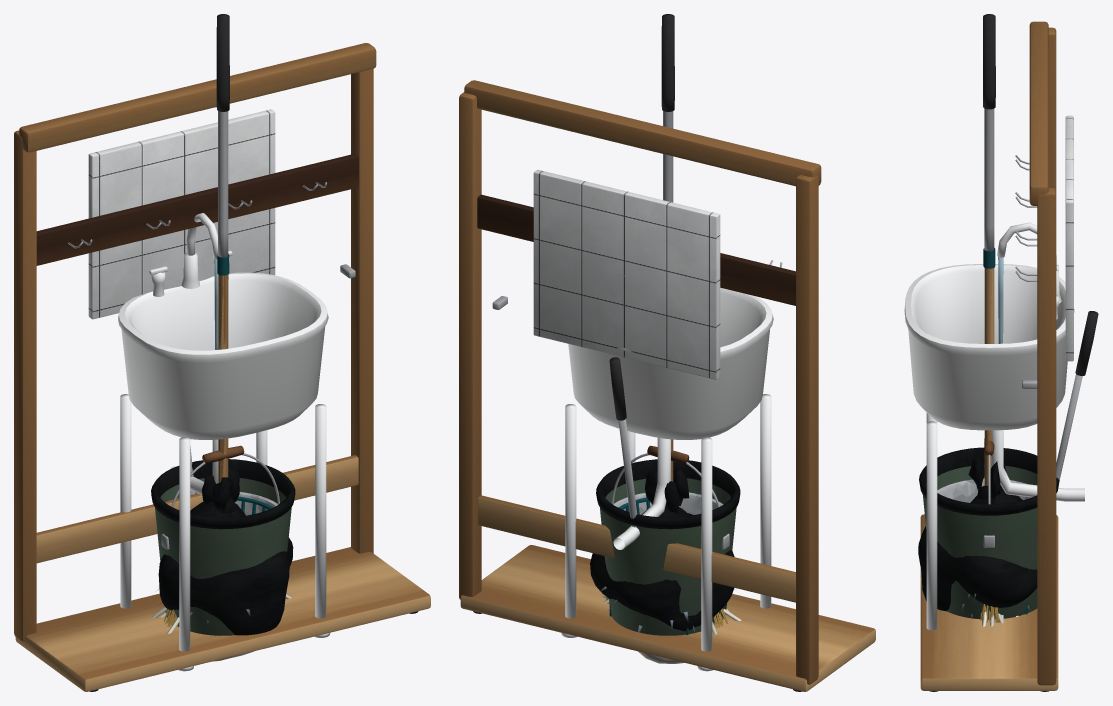
File: study-care-89fcd69a17ce.glb
3 renders of one model, left to right at view 1: azimuth 30°, elevation 25°; view 2: azimuth 150°, elevation 25°; view 3: azimuth 270°, elevation 25°, orthographic. The views are drawn at different scales.
Visible parts, largest first — view 1: Frame, Basin, Back, Rail, Bag, Legs, Body.001, Liner, Faucet, Pole.001, Grip.001, Handle (+1 smaller); view 2: Frame, Back, Basin, Legs, Body.001, Bag, Rail, Liner, Grip.001, Pole, Grip, Body (+1 smaller); view 3: Frame, Basin, Body.001, Bag, Legs, Liner, Back, Pole.001, Grip.001, Handle, Pole, Body (+4 smaller).
Boxes of the visible parts, bbox=[...] form: Frame: bbox=[14, 43, 430, 691]; Basin: bbox=[118, 272, 328, 439]; Back: bbox=[88, 109, 275, 319]; Rail: bbox=[36, 153, 358, 265]; Bag: bbox=[158, 467, 293, 635]; Legs: bbox=[120, 394, 330, 671]; Body.001: bbox=[155, 478, 291, 635]; Liner: bbox=[151, 459, 295, 529]; Faucet: bbox=[149, 213, 232, 296]; Pole.001: bbox=[218, 111, 228, 257]; Grip.001: bbox=[216, 14, 229, 111]; Handle: bbox=[218, 275, 228, 482]; Frame: bbox=[459, 80, 875, 691]; Back: bbox=[533, 169, 720, 379]; Basin: bbox=[568, 287, 773, 439]; Legs: bbox=[561, 394, 771, 671]; Body.001: bbox=[600, 478, 736, 635]; Bag: bbox=[590, 468, 734, 631]; Rail: bbox=[477, 194, 795, 305]; Liner: bbox=[596, 459, 740, 529]; Grip.001: bbox=[661, 14, 674, 111]; Pole: bbox=[618, 419, 637, 527]; Grip: bbox=[609, 357, 626, 420]; Body: bbox=[613, 492, 723, 514]; Frame: bbox=[920, 21, 1058, 690]; Basin: bbox=[904, 264, 1074, 430]; Body.001: bbox=[923, 465, 1037, 619]; Bag: bbox=[918, 456, 1037, 611]; Legs: bbox=[926, 413, 1084, 630]; Liner: bbox=[919, 447, 1059, 515]; Back: bbox=[1065, 115, 1073, 361]; Pole.001: bbox=[984, 108, 994, 251]; Grip.001: bbox=[983, 14, 995, 109]; Handle: bbox=[984, 268, 994, 485]; Pole: bbox=[1056, 374, 1082, 479]; Body: bbox=[937, 478, 1031, 502].
Bounding box in the file's own units: 1.03 × 1.79 × 0.5073.
Materials: 19 (13 with a texture image).
